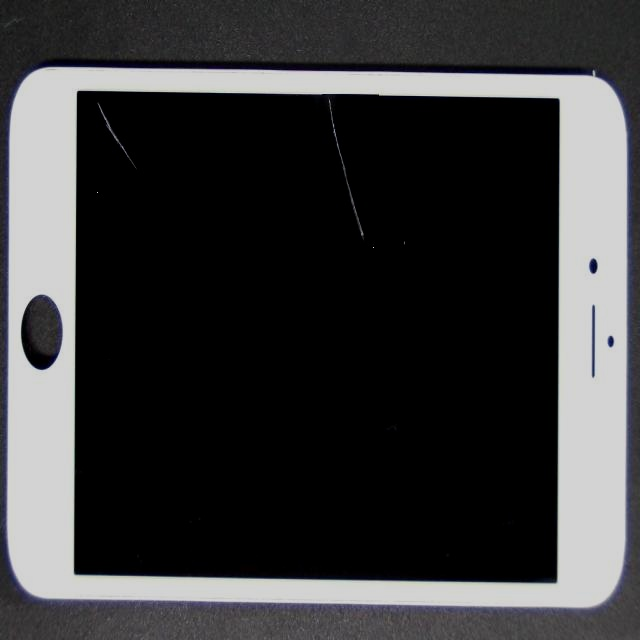scratch: (182, 45, 505, 144), (68, 96, 205, 289)
